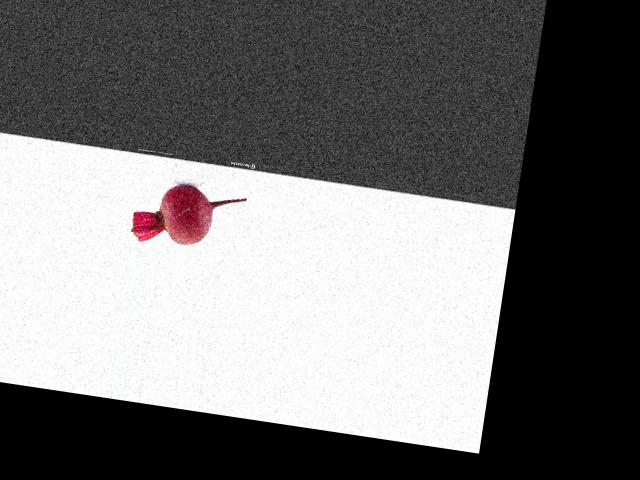beet: (129, 177, 247, 255)
